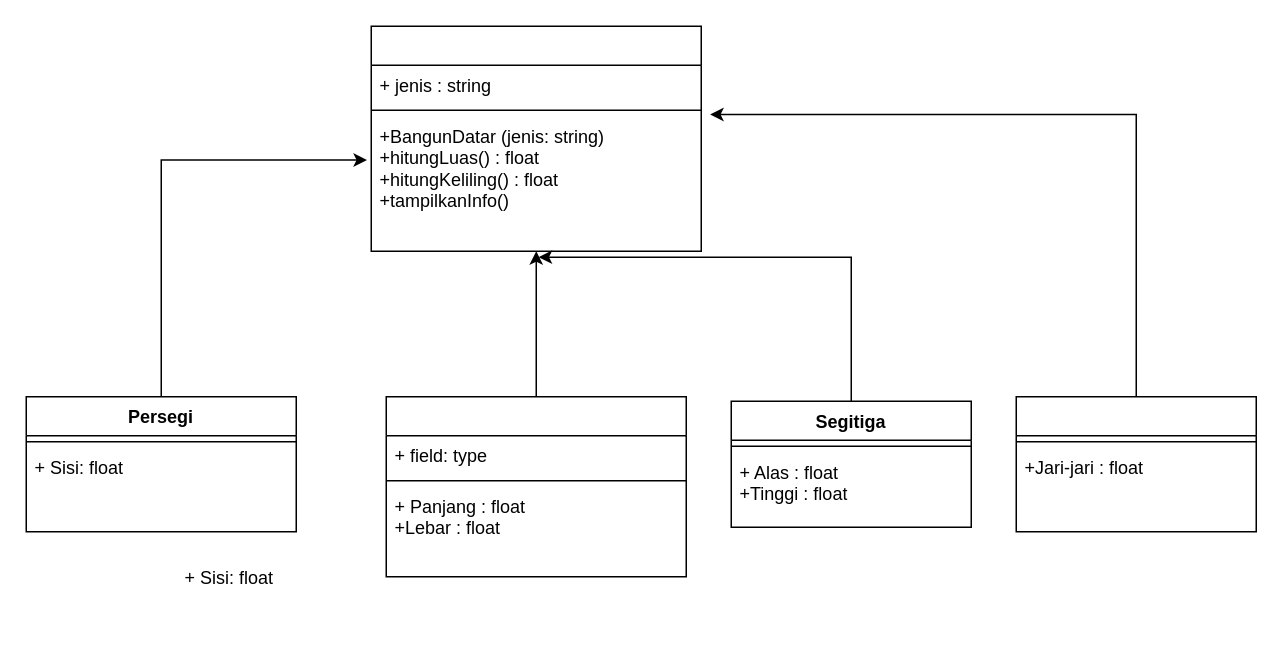
This 1283x672 diagram has some shape labels left out. The shapes that lost their labels are listed below. From the top down, each one's box as (x1, y1, x2, y2) in pixels, then its label:
(1015, 395, 1256, 532): Lingkaran
(385, 395, 686, 577): Persegi Panjang
